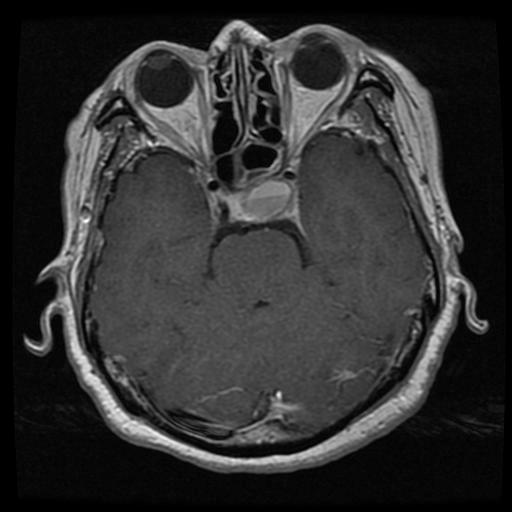Tumour-Pituitary: (204, 172, 305, 241)
